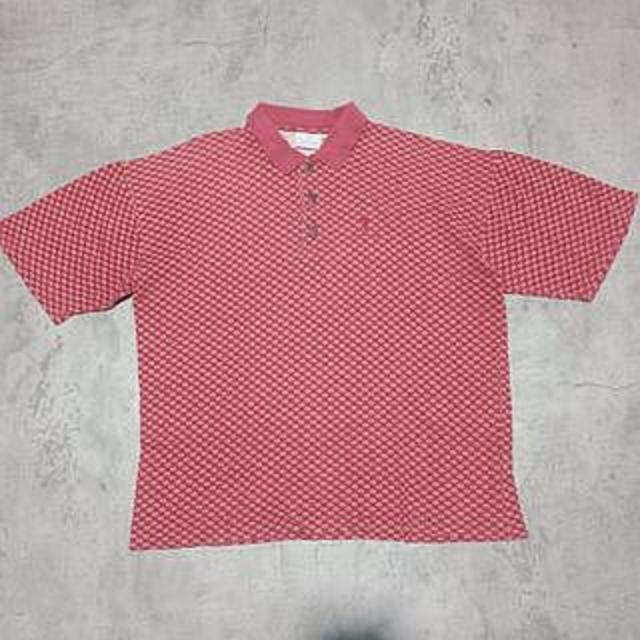T_SHIRT: (0, 97, 640, 553)
